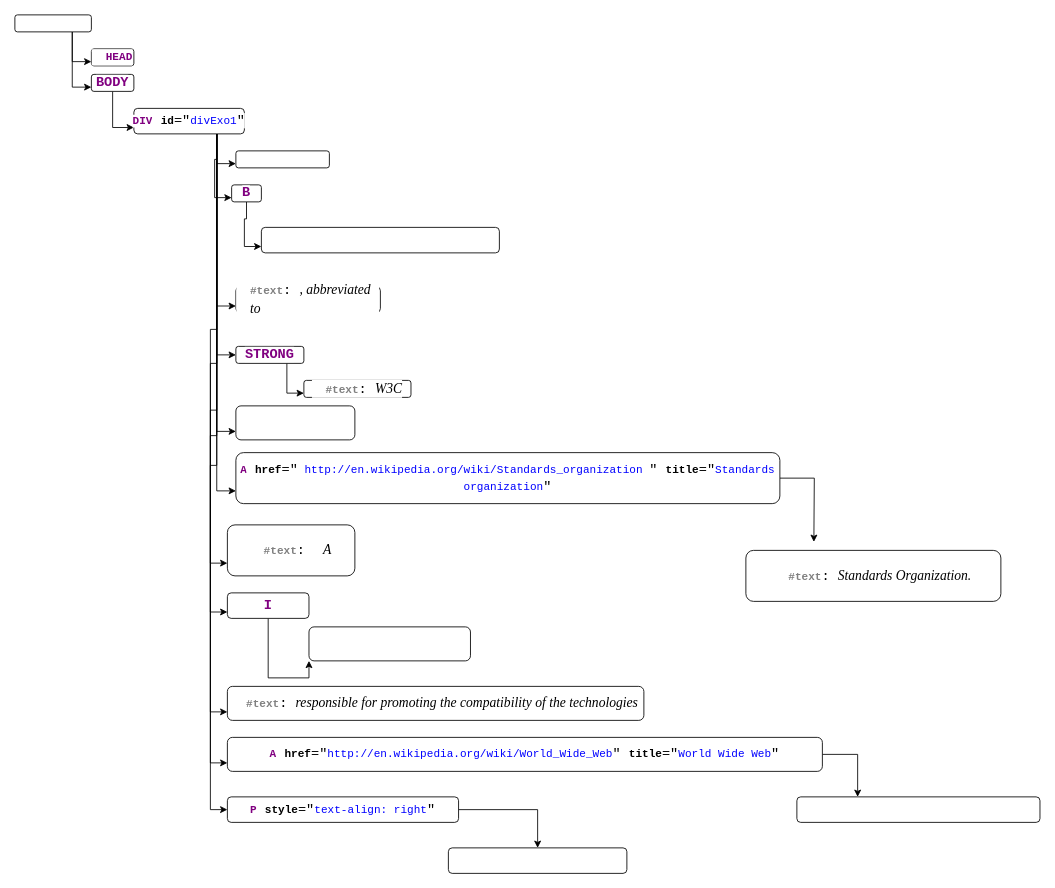
This 1055x888 diagram has some shape labels left out. Each missing label, with the box of its shape:
#text : , is a: (235, 405, 355, 440)
#text : non-profit: (308, 626, 470, 661)
#text : The: (235, 150, 329, 168)
#text : World Wide Web: (796, 796, 1040, 822)
#text : World Wide Web Consortium: (261, 227, 499, 253)
#text : Your Name Here: (448, 847, 627, 873)
HTML: (14, 14, 91, 32)
